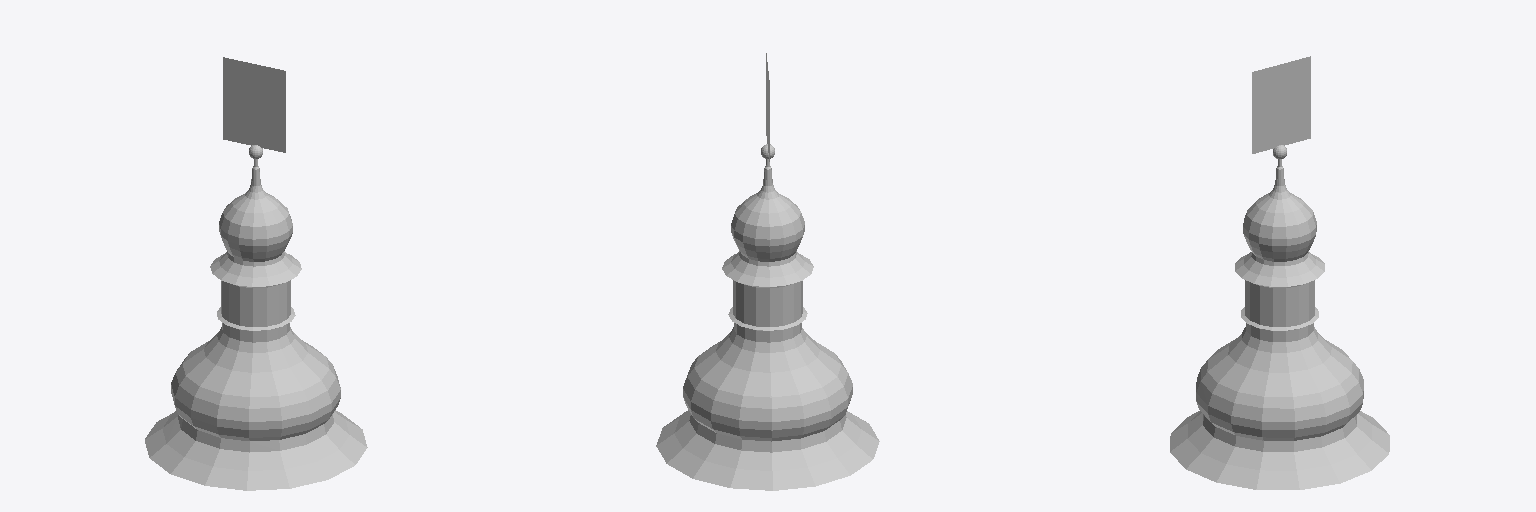
File: srednjaKupolaobj.obj
3 views of the same model, side by side, from view 1: azimuth 30°, elevation 25°; view 2: azimuth 150°, elevation 25°; view 3: azimuth 270°, elevation 25° (orthographic).
Parts seen in each view (by area): view 1: nedim-nazočan; view 2: nedim-nazočan; view 3: nedim-nazočan.
Part boxes in pixels (x1,y1,x2,y2): nedim-nazočan: (145,57,367,490); nedim-nazočan: (656,53,879,490); nedim-nazočan: (1170,56,1389,489).
Size of the model in its own units: 8.28 by 15.89 by 8.28.